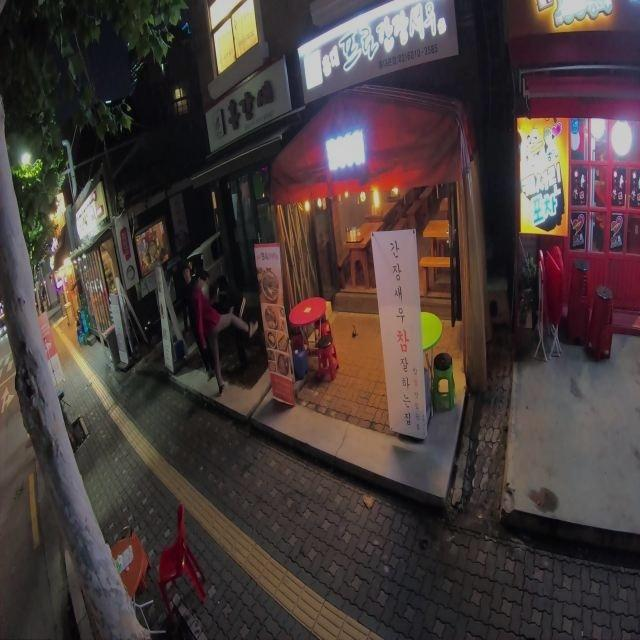fight: (174, 252, 251, 397)
